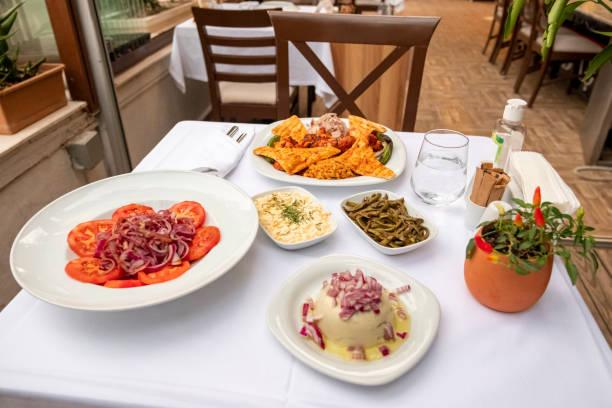Braised Crucian Carp: (13, 161, 257, 320), (274, 252, 449, 394), (248, 116, 404, 187)
